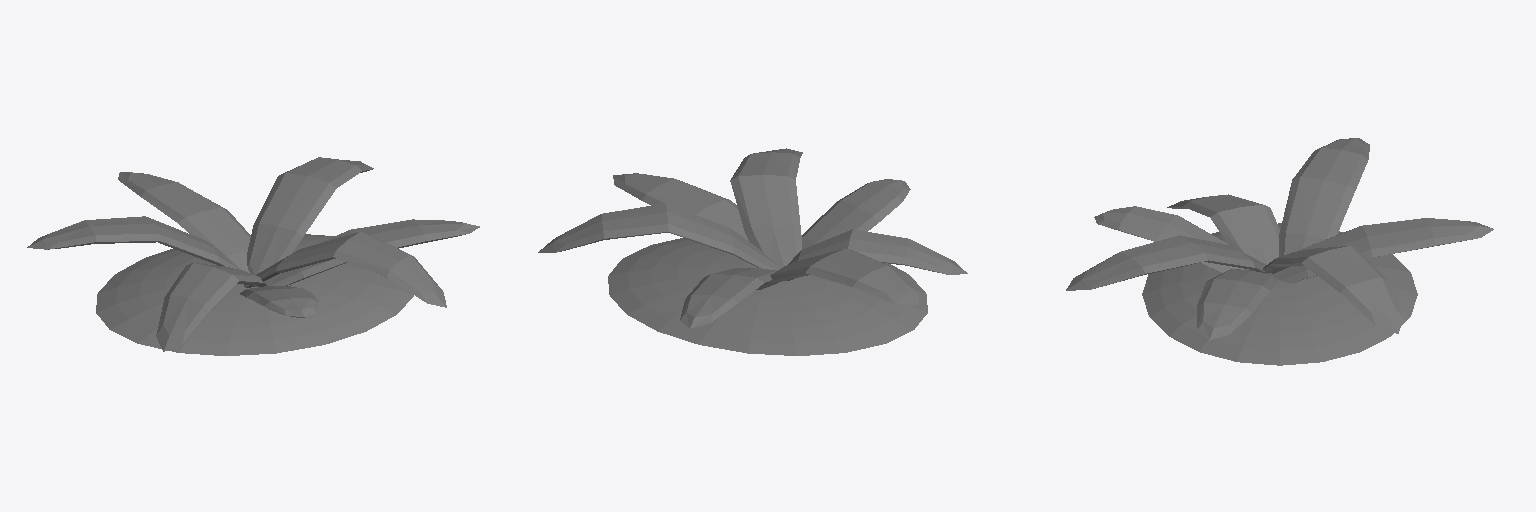
File: StrawberryTopper.obj
The picture shows the model from 3 angles: view 1: azimuth 30°, elevation 25°; view 2: azimuth 150°, elevation 25°; view 3: azimuth 270°, elevation 25°; orthographic projection.
Visible parts, largest first — view 1: StrawberryTopper:pCube8, StrawberryTopper:pSphere1; view 2: StrawberryTopper:pCube8, StrawberryTopper:pSphere1; view 3: StrawberryTopper:pCube8, StrawberryTopper:pSphere1.
Part boxes in pixels (x1,y1,x2,y2): StrawberryTopper:pCube8: (27,157,479,351); StrawberryTopper:pSphere1: (96,234,413,355); StrawberryTopper:pCube8: (538,148,967,328); StrawberryTopper:pSphere1: (608,238,927,355); StrawberryTopper:pCube8: (1066,138,1493,339); StrawberryTopper:pSphere1: (1142,223,1417,365).
Size of the model in its own units: 4.9 by 1.06 by 4.8.